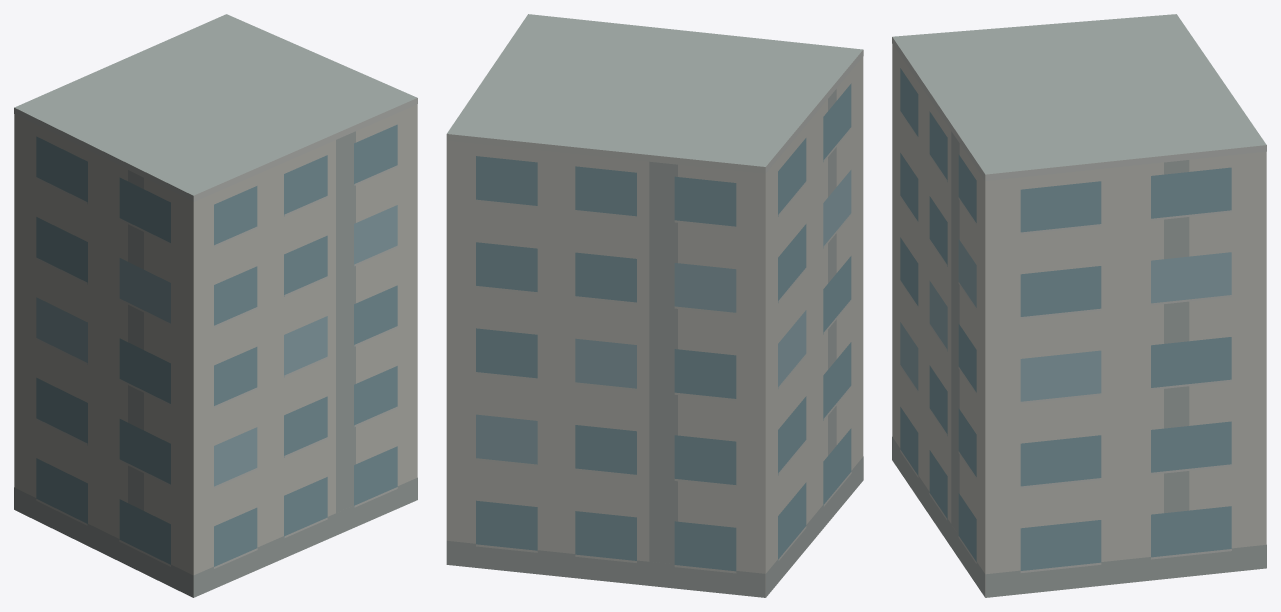
File: survey-upis-32817959.glb
3 views of the same model, side by side, from view 1: azimuth 30°, elevation 25°; view 2: azimuth 150°, elevation 25°; view 3: azimuth 270°, elevation 25° (orthographic). The views are drawn at different scales.
Parts seen in each view (by area): view 1: survey-upis-32817959.tmp; view 2: survey-upis-32817959.tmp; view 3: survey-upis-32817959.tmp.
Boxes of the visible parts, x1,y1,x2,y2 form: survey-upis-32817959.tmp: (14, 14, 417, 597); survey-upis-32817959.tmp: (446, 14, 863, 597); survey-upis-32817959.tmp: (892, 14, 1266, 597).
Bounding box in the file's own units: 12.58 × 15.45 × 12.4.
